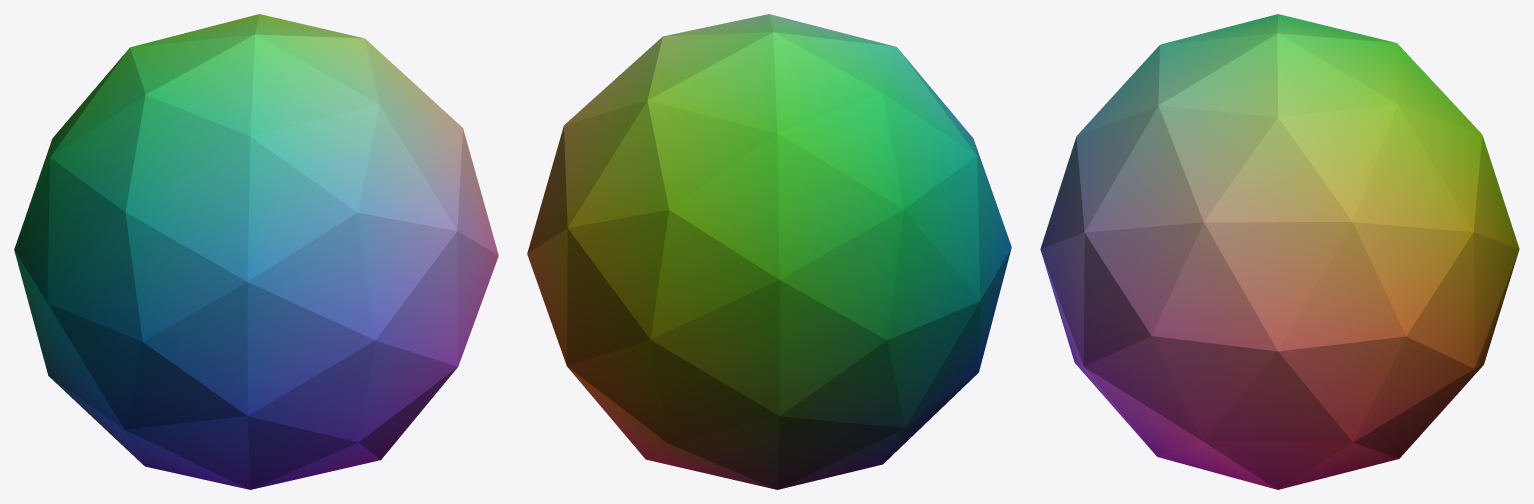
Rendered from zeometry-polyhedra-geodesic-sphere_v2.glb.
3 views of the same model, side by side, from view 1: azimuth 30°, elevation 25°; view 2: azimuth 150°, elevation 25°; view 3: azimuth 270°, elevation 25° (orthographic).
Visible parts, largest first — view 1: Geodesic Sphere_v2; view 2: Geodesic Sphere_v2; view 3: Geodesic Sphere_v2.
Part boxes in pixels (bbox=[...]): Geodesic Sphere_v2: bbox=[14, 14, 498, 489]; Geodesic Sphere_v2: bbox=[527, 14, 1011, 489]; Geodesic Sphere_v2: bbox=[1040, 14, 1519, 489].
Size of the model in its own units: 0.5 by 0.5 by 0.4999.
